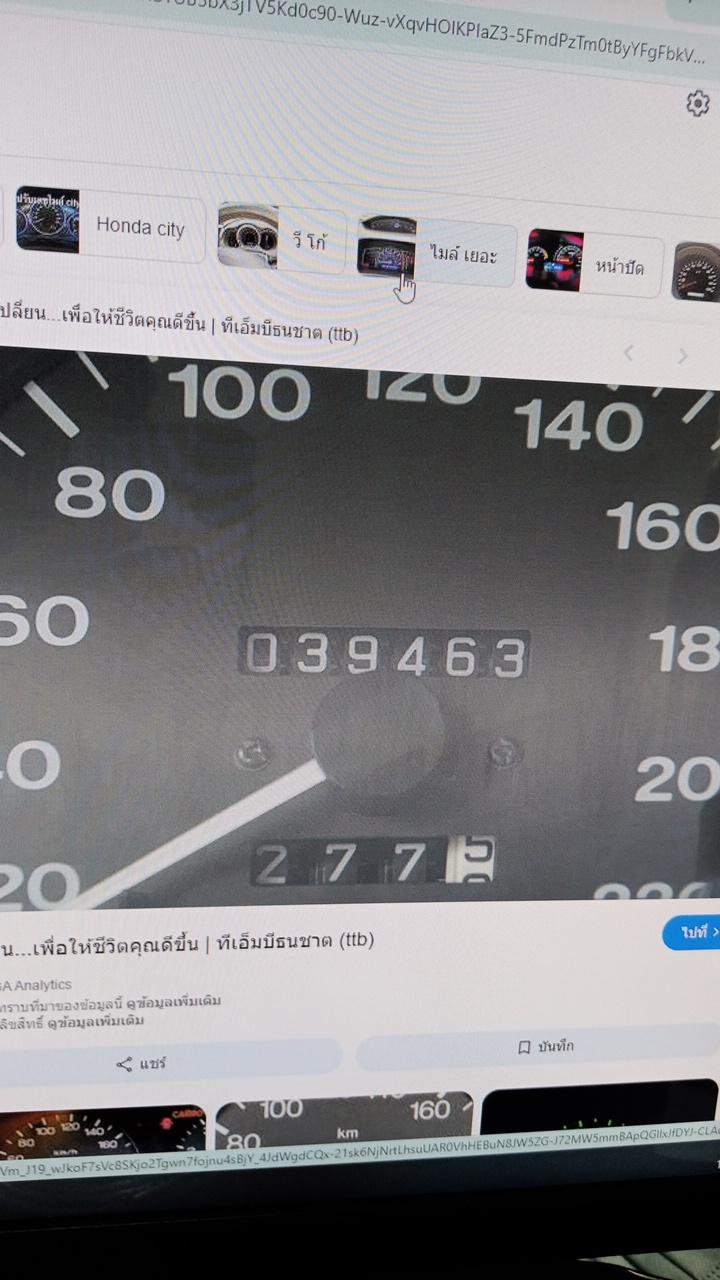0: (244, 631, 278, 674)
3: (297, 632, 329, 675), (493, 635, 524, 679)
4: (395, 635, 427, 678)
6: (445, 636, 476, 678)
9: (348, 633, 378, 675)
odometer: (235, 620, 534, 688)
